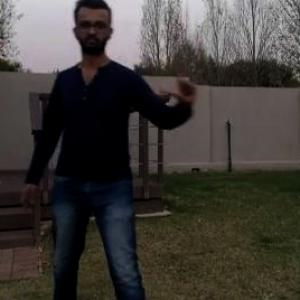land_hand: (161, 60, 208, 109)
